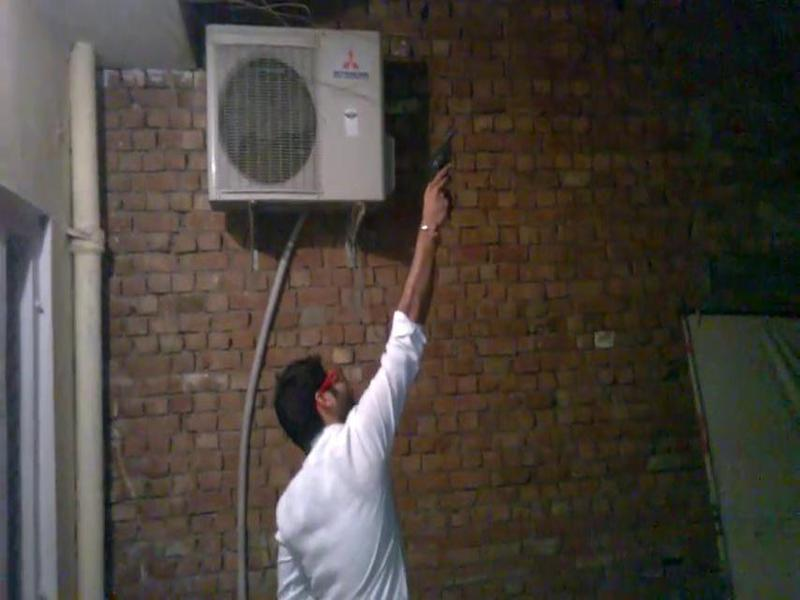Revolver: (405, 122, 486, 225)
